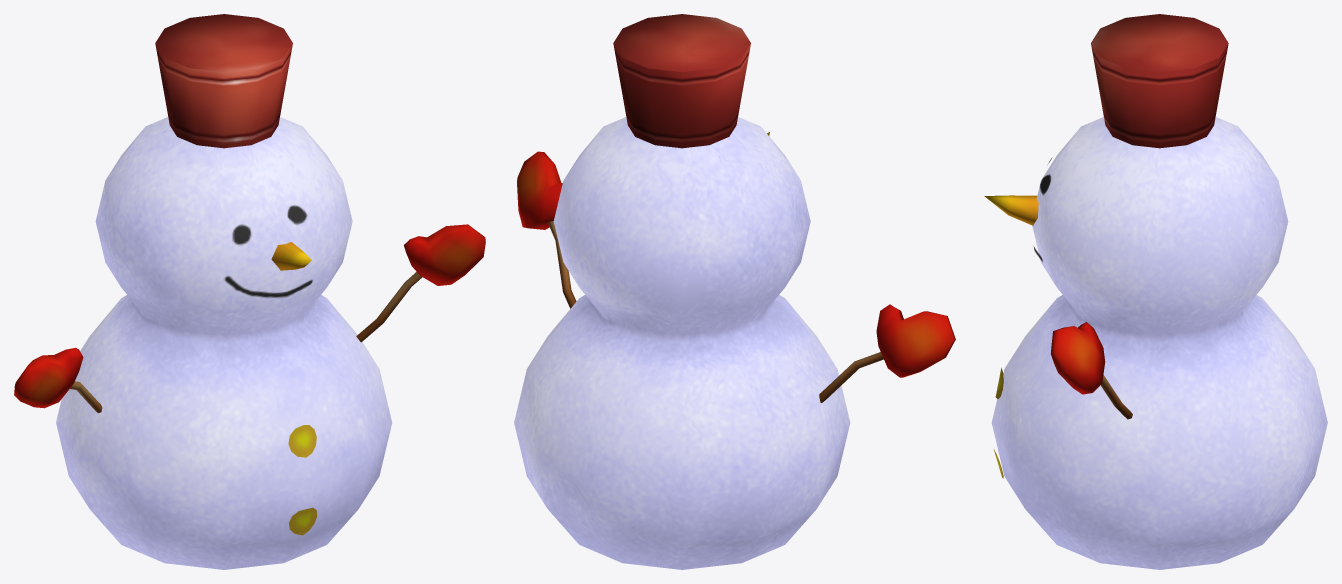
The model's file is Yukidaruma_S.glb.
3 views of the same model, side by side, from view 1: azimuth 30°, elevation 25°; view 2: azimuth 150°, elevation 25°; view 3: azimuth 270°, elevation 25° (orthographic).
Parts seen in each view (by area): view 1: PQ_Ch_Yukidaruma_S(Clone); view 2: PQ_Ch_Yukidaruma_S(Clone); view 3: PQ_Ch_Yukidaruma_S(Clone).
Part boxes in pixels (bbox=[...]): PQ_Ch_Yukidaruma_S(Clone): bbox=[14, 14, 485, 569]; PQ_Ch_Yukidaruma_S(Clone): bbox=[514, 14, 955, 569]; PQ_Ch_Yukidaruma_S(Clone): bbox=[984, 14, 1327, 569].
Size of the model in its own units: 1.09 by 1.11 by 0.7156.
Materials: 2 (2 with a texture image).
